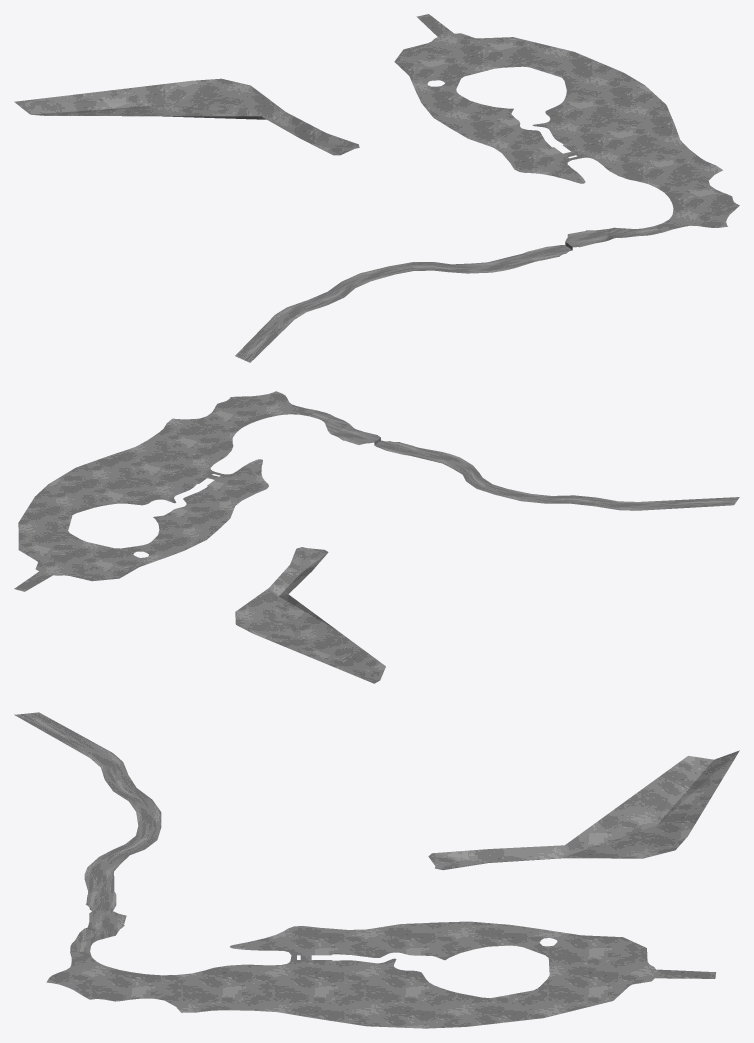
Rendered from seaindirect_bake.dae.
3 renders of one model, top to bottom at view 1: azimuth 30°, elevation 25°; view 2: azimuth 150°, elevation 25°; view 3: azimuth 270°, elevation 25°, orthographic. The views are drawn at different scales.
Parts seen in each view (by area): view 1: m0; view 2: m0; view 3: m0.
Boxes of the visible parts, <box> form: m0: <box>14,14,739,362</box>; m0: <box>14,391,739,683</box>; m0: <box>14,712,739,1028</box>.
Size of the model in its own units: 41753 by 600 by 39674.
Materials: 2 (2 with a texture image).
